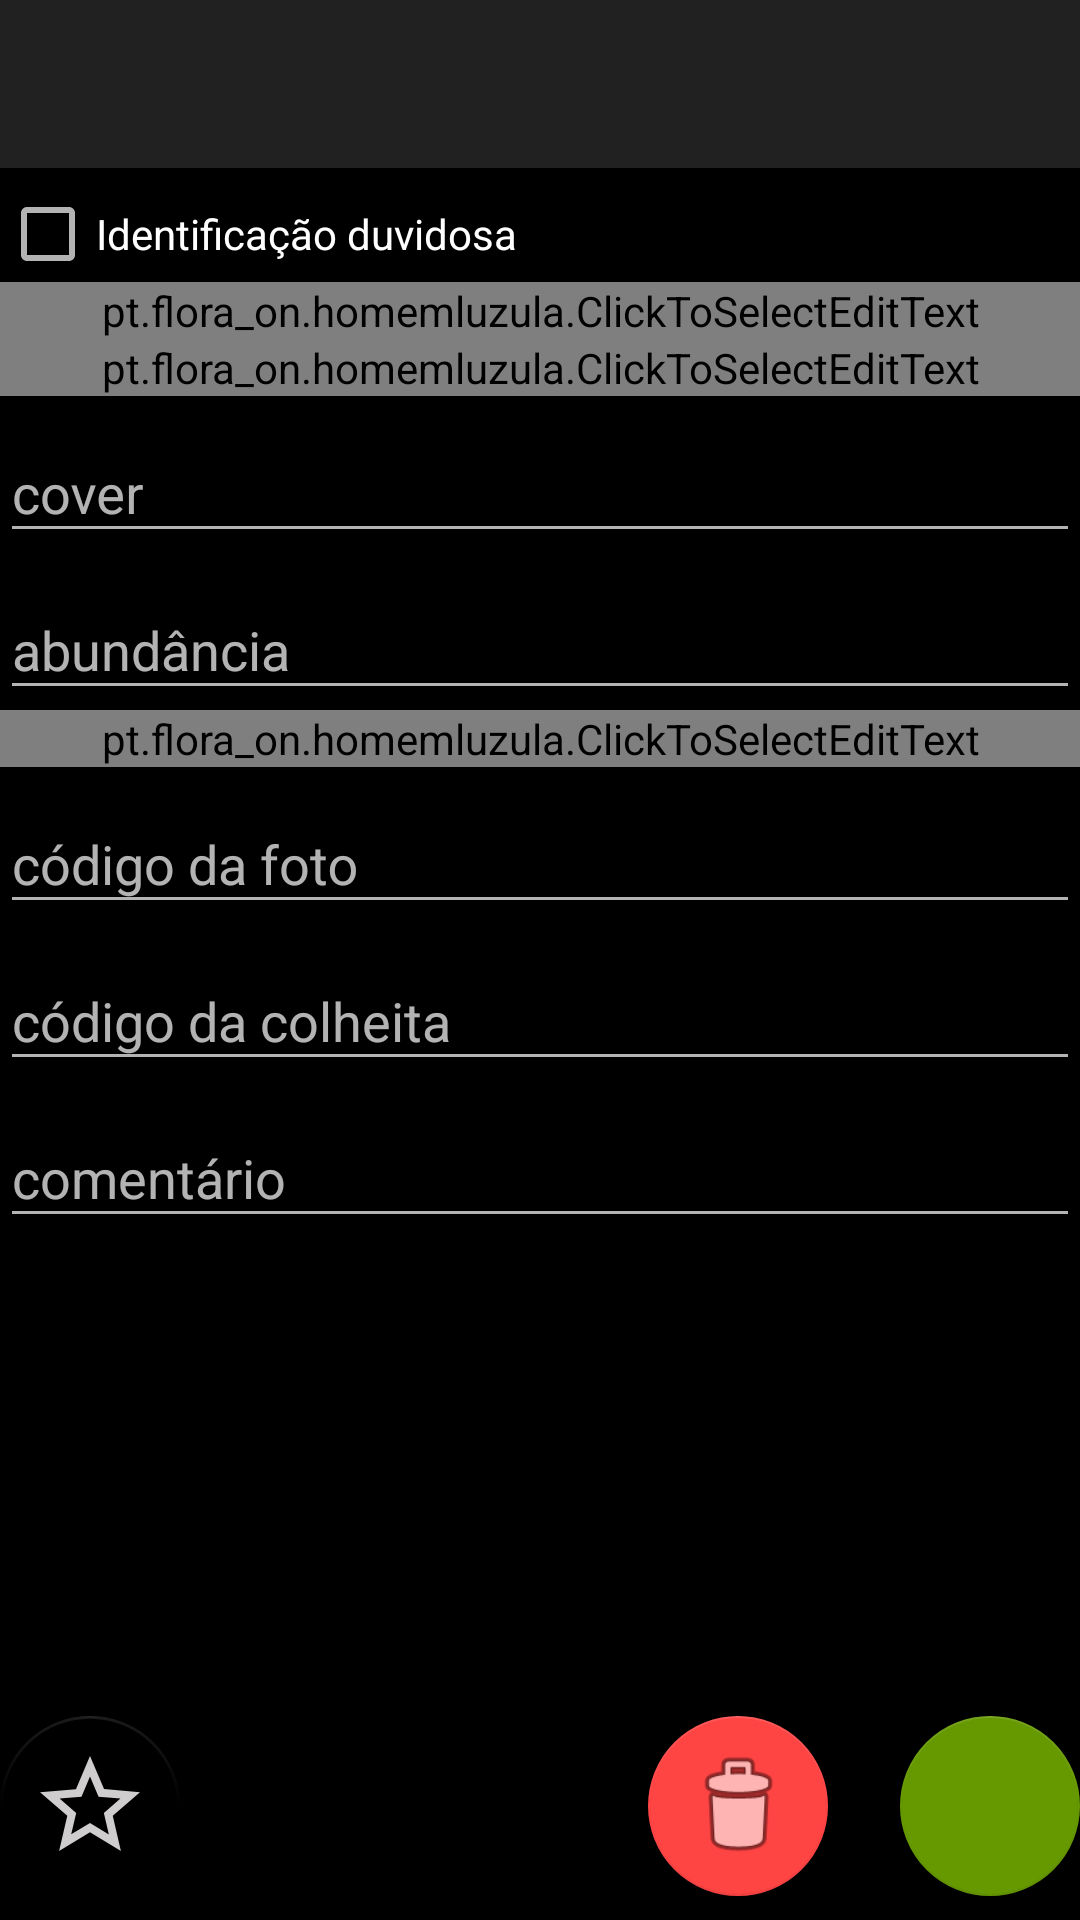

Icons on this 1080x1920 Android screen, each with the point to tap as point (x, y):
delete: point (738, 1806)
star border: point (90, 1783)
